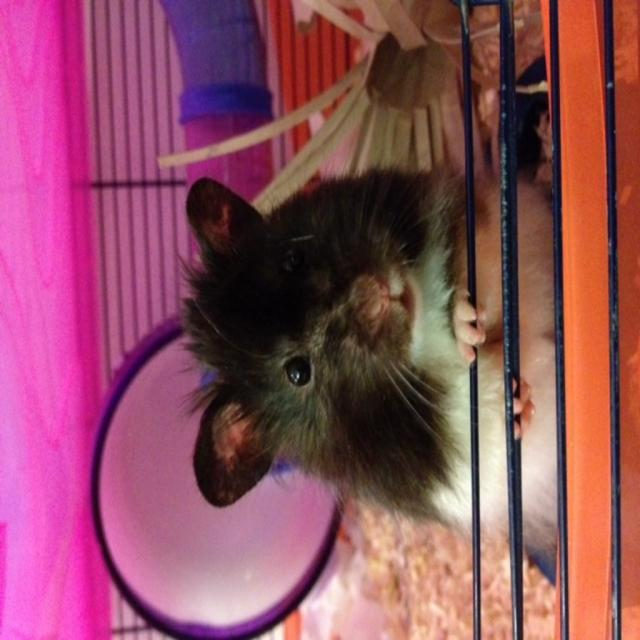rat: (180, 168, 556, 534)
